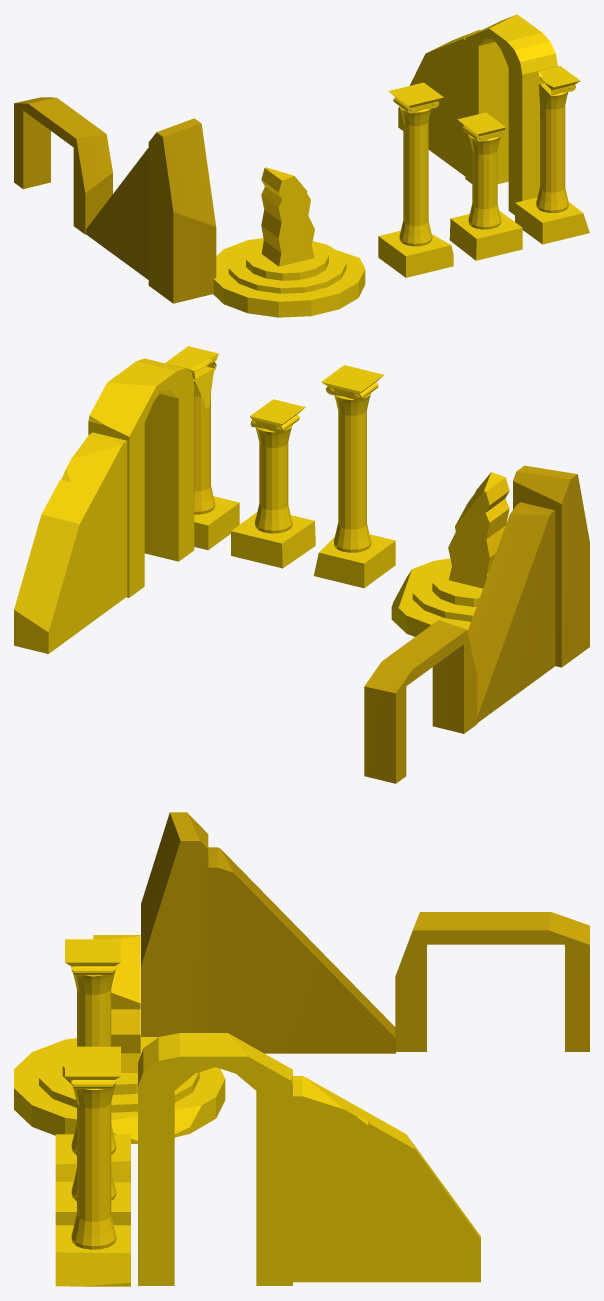
The model's file is SM_Prop_DesertRuins.fbx.
3 renders of one model, top to bottom at view 1: azimuth 30°, elevation 25°; view 2: azimuth 150°, elevation 25°; view 3: azimuth 270°, elevation 25°, orthographic. The views are drawn at different scales.
Visible parts, largest first — view 1: SM_Prop_DesertRuins; view 2: SM_Prop_DesertRuins; view 3: SM_Prop_DesertRuins.
Part boxes in pixels (x1,y1,x2,y2): SM_Prop_DesertRuins: (14,14,589,317); SM_Prop_DesertRuins: (14,346,589,783); SM_Prop_DesertRuins: (14,812,589,1286).
Size of the model in its own units: 814 by 340 by 772.
